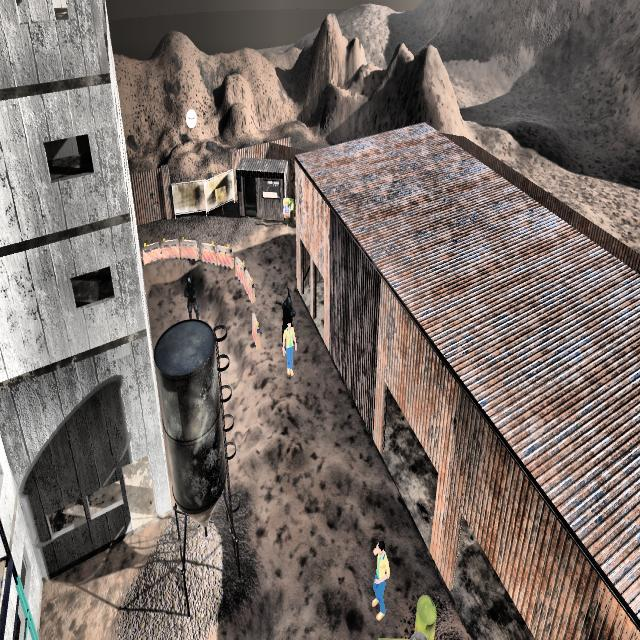bad: (181, 268, 201, 322), (278, 285, 296, 321)
good: (361, 524, 393, 624), (284, 317, 300, 389)
